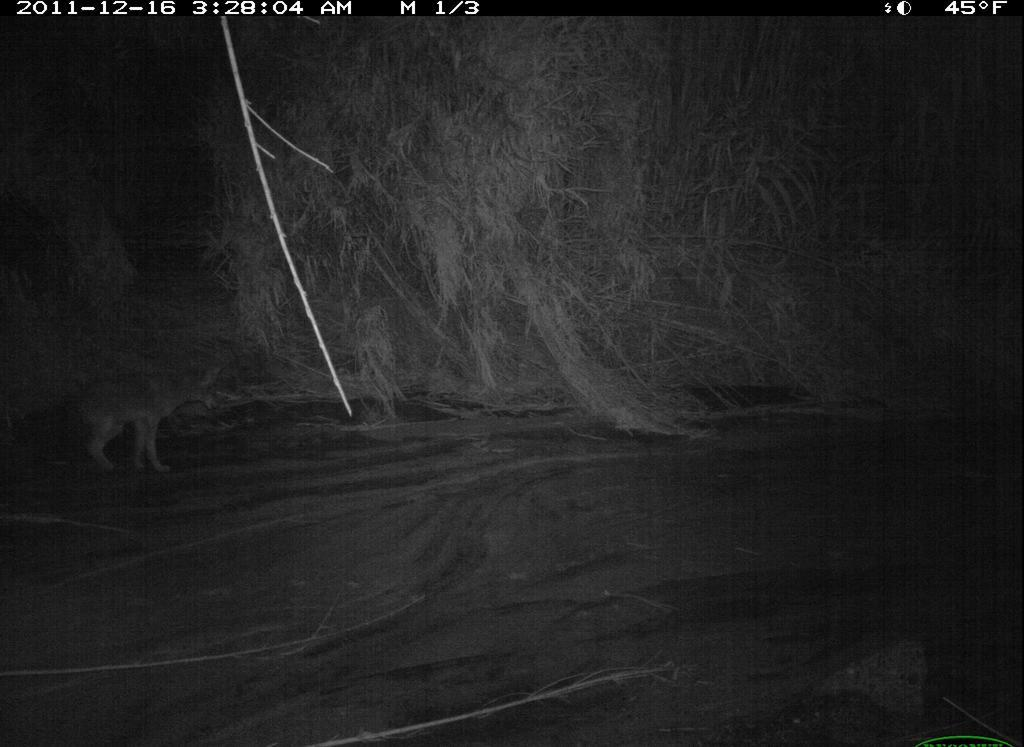coyote: (35, 347, 242, 482)
